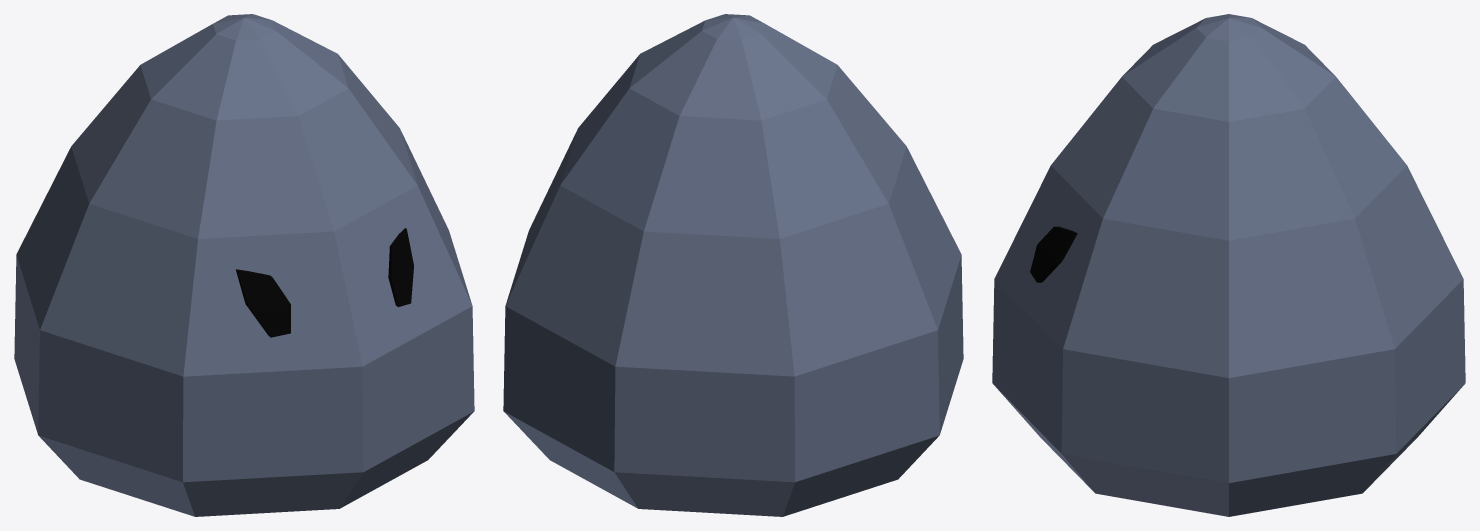
The model's file is slime3.glb.
The picture shows the model from 3 angles, left to right: view 1: azimuth 30°, elevation 25°; view 2: azimuth 150°, elevation 25°; view 3: azimuth 270°, elevation 25°; orthographic projection.
Visible parts, largest first — view 1: Slime_3; view 2: Slime_3; view 3: Slime_3.
Part boxes in pixels (x1=…): Slime_3: x1=14, y1=14, x2=474, y2=516; Slime_3: x1=503, y1=14, x2=963, y2=516; Slime_3: x1=992, y1=14, x2=1465, y2=516.
Size of the model in its own units: 1.84 by 1.79 by 1.84.
